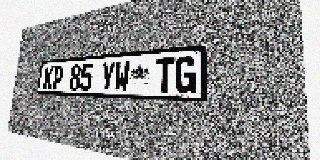5: (80, 63, 94, 91)
8: (69, 64, 82, 91)
G: (175, 56, 196, 93)
K: (43, 66, 54, 90)
P: (52, 65, 64, 90)
T: (155, 57, 175, 93)
W: (114, 61, 130, 92)
Y: (100, 62, 115, 91)
